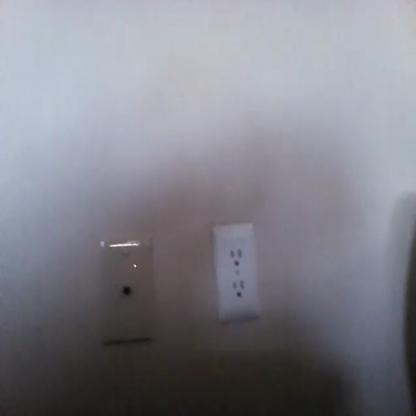OUTLET: (213, 225, 260, 319)
